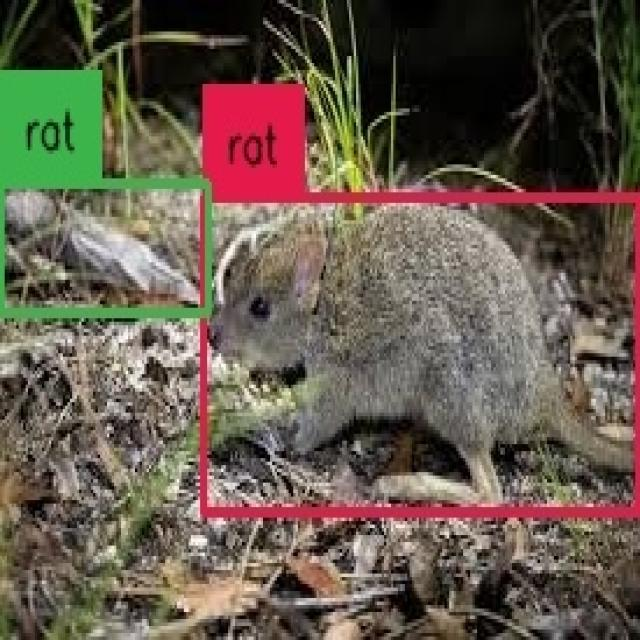rat: (204, 198, 638, 512), (0, 183, 209, 313)
